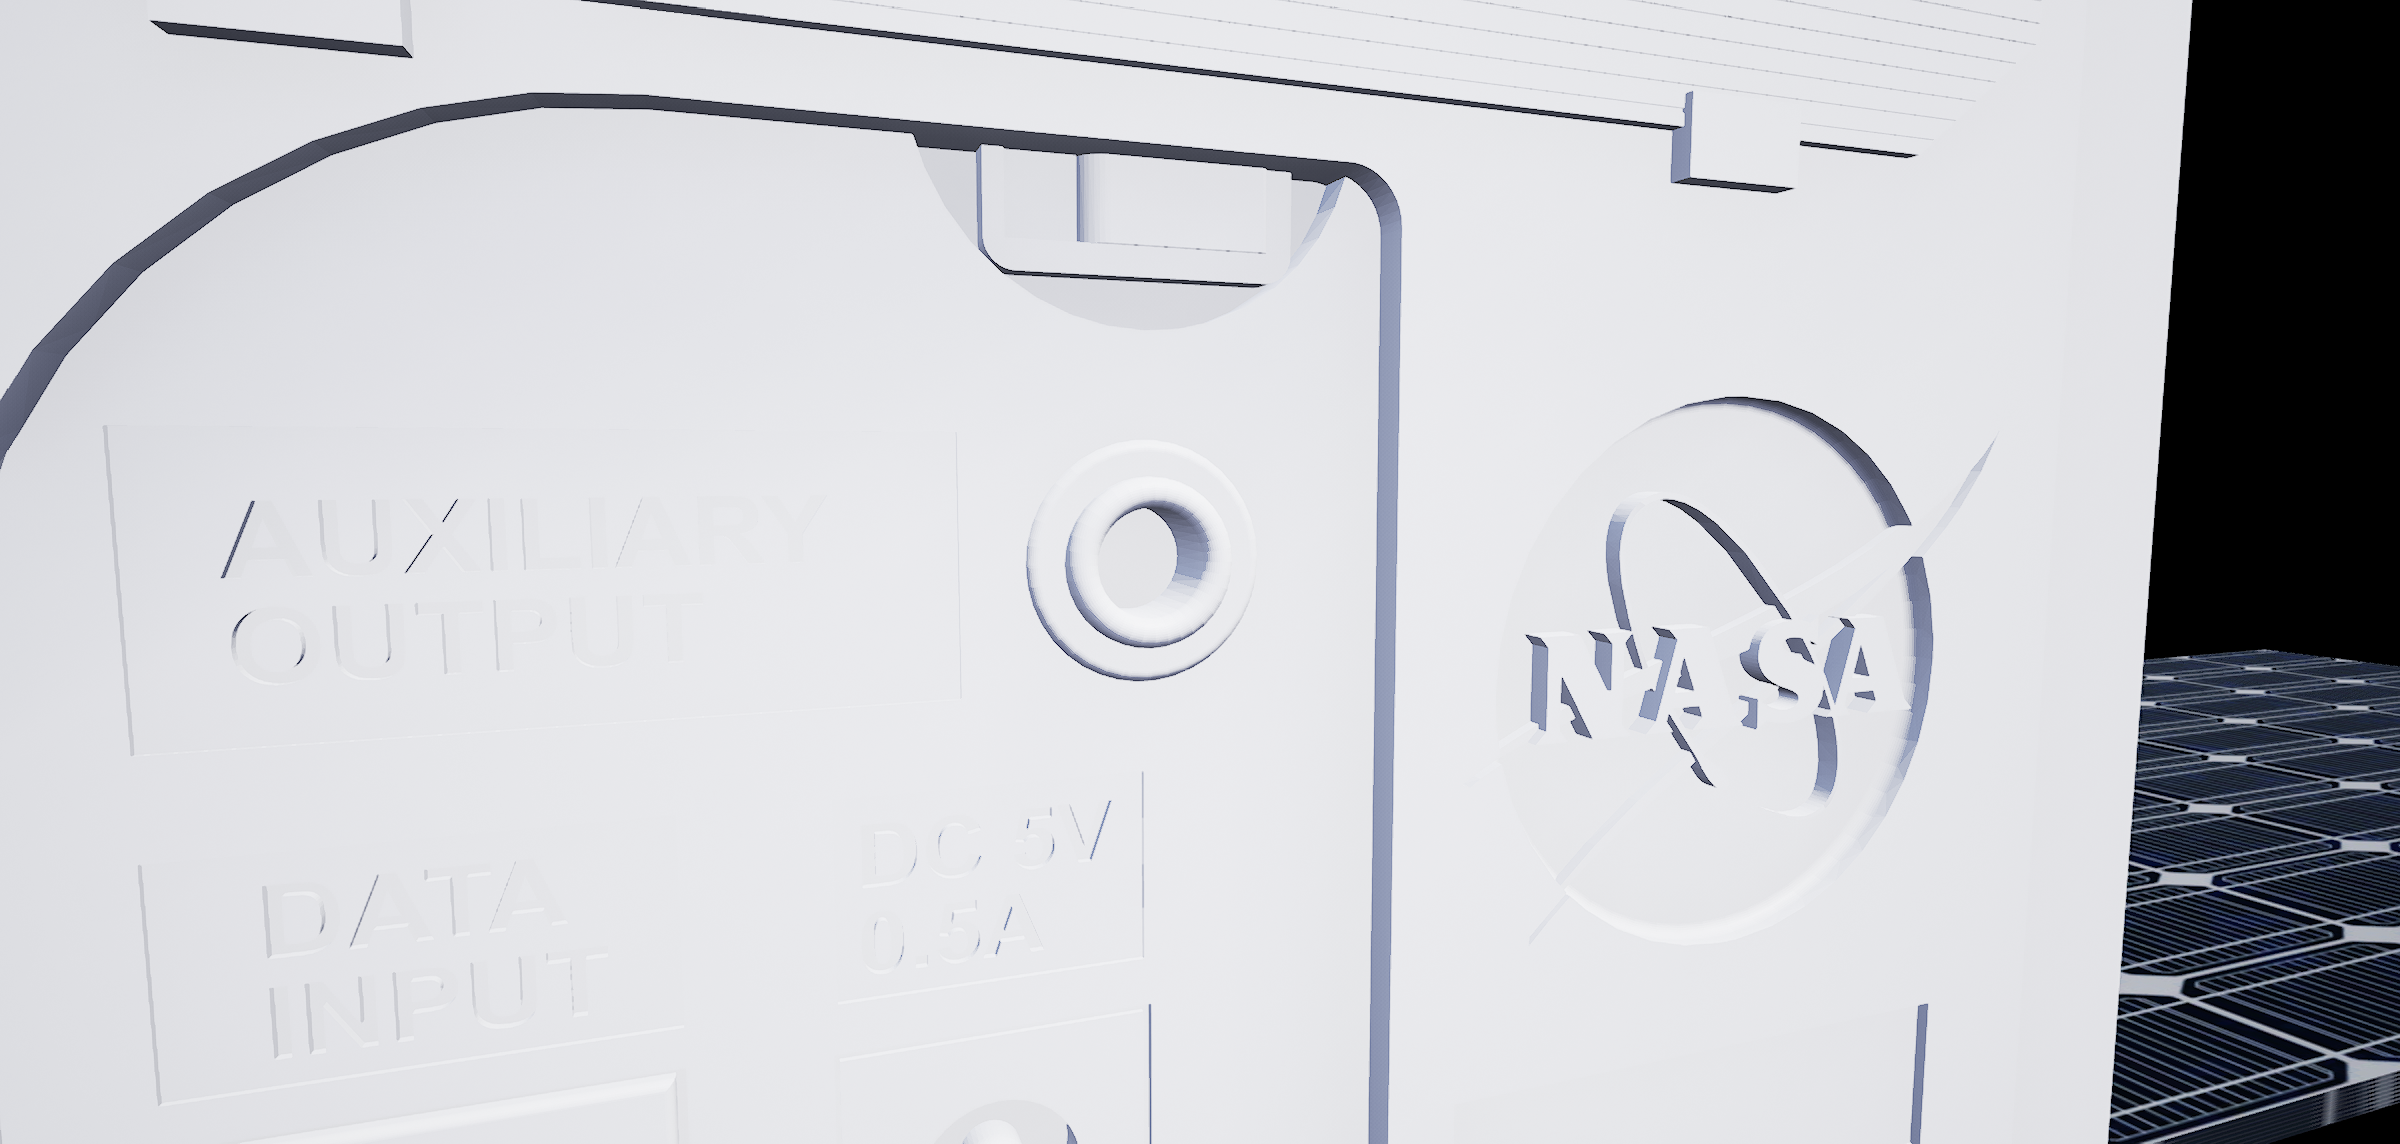aux: (1024, 424, 1283, 681)
dc: (905, 1093, 1091, 1144)
